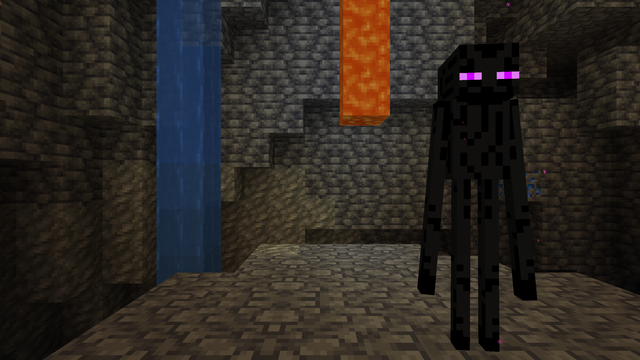endermens: (430, 30, 530, 356)
